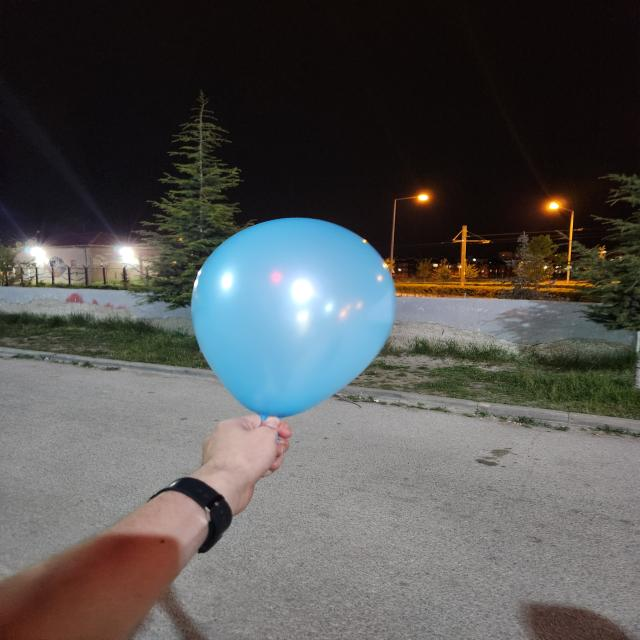blue: (193, 217, 397, 418)
